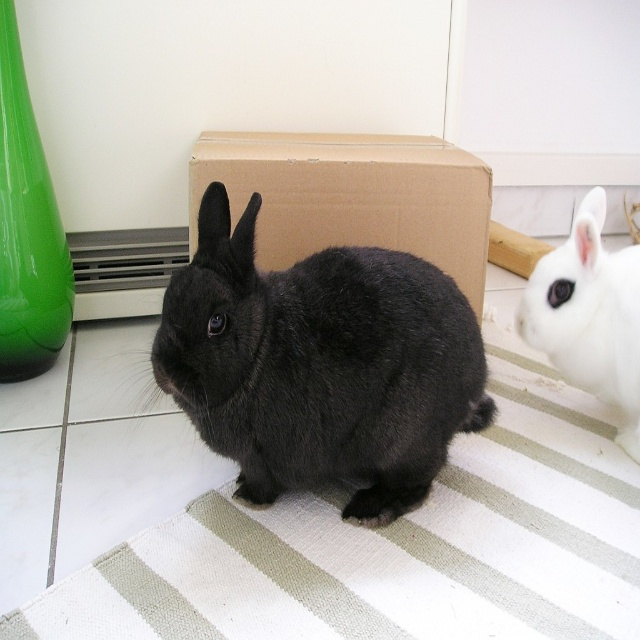Rabbit: (102, 184, 498, 527), (510, 183, 639, 469)
